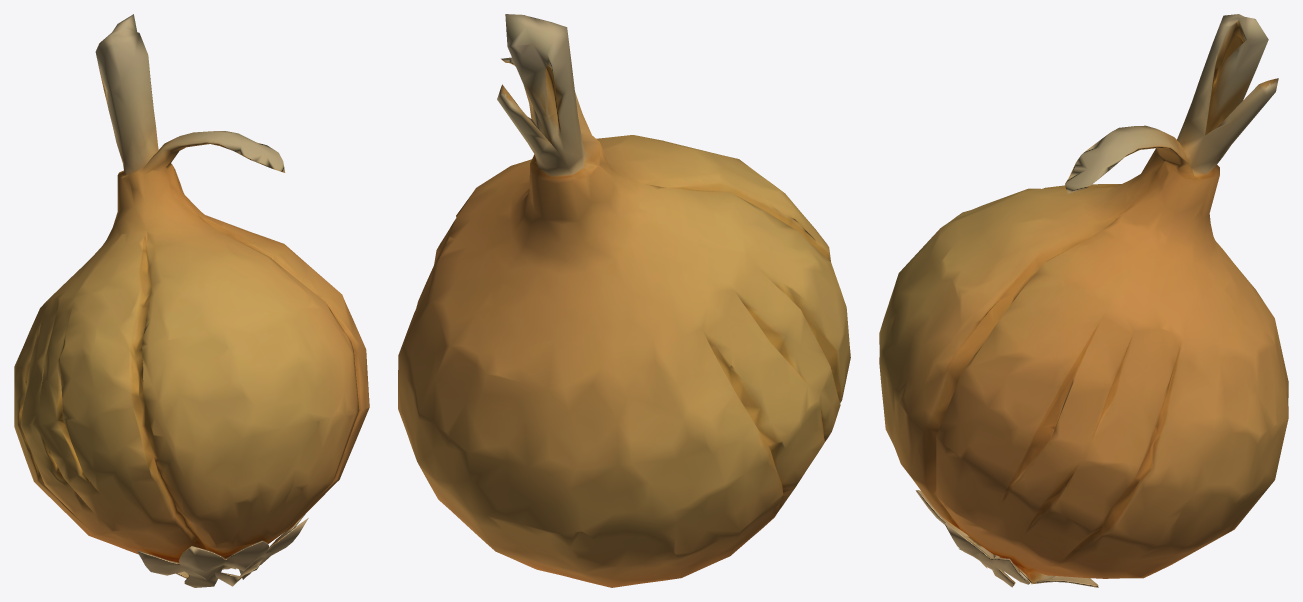
File: tripo_convert_b008d85d-d32f-43f7-b3c1-b7d8391454db.fbx
The picture shows the model from 3 angles, left to right: view 1: azimuth 30°, elevation 25°; view 2: azimuth 150°, elevation 25°; view 3: azimuth 270°, elevation 25°; orthographic projection. The views are drawn at different scales.
Parts seen in each view (by area): view 1: tripo_node_b008d85d; view 2: tripo_node_b008d85d; view 3: tripo_node_b008d85d.
Part boxes in pixels (box(x1,y1,x2,y2)): tripo_node_b008d85d: box(14, 14, 369, 587); tripo_node_b008d85d: box(398, 14, 850, 587); tripo_node_b008d85d: box(879, 14, 1288, 587).
Size of the model in its own units: 0.6615 by 1 by 0.6623.
Materials: 1 (1 with a texture image).
